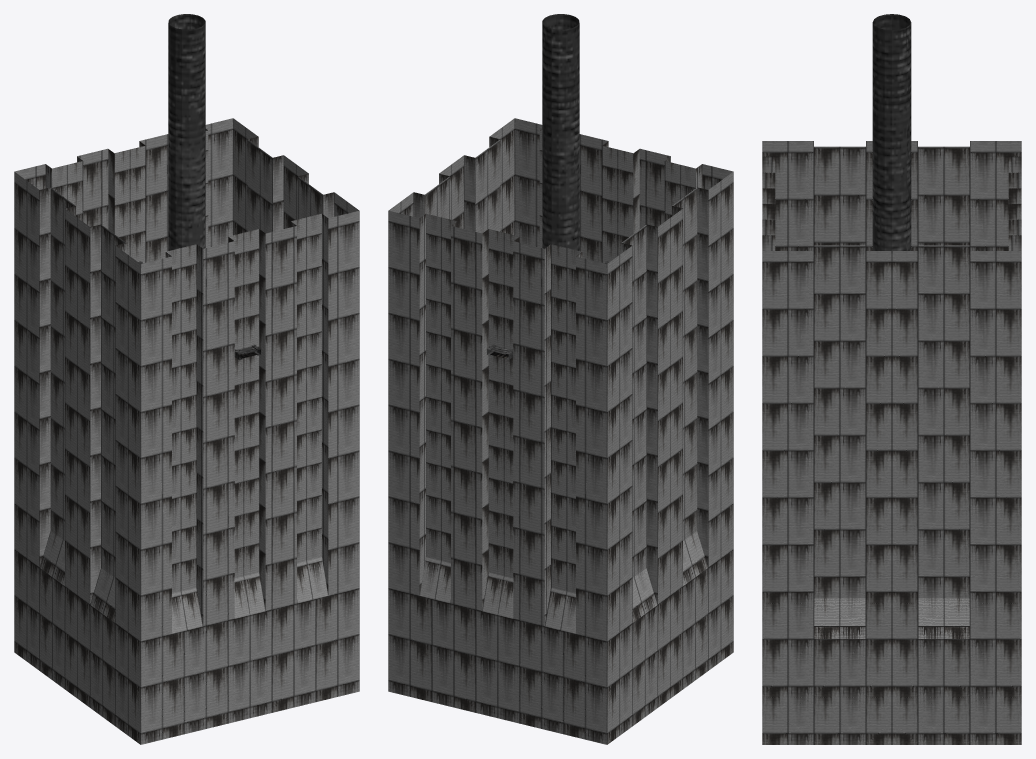
Rendered from BatGun_Place.fbx.
3 views of the same model, side by side, from view 1: azimuth 30°, elevation 25°; view 2: azimuth 150°, elevation 25°; view 3: azimuth 270°, elevation 25° (orthographic). The views are drawn at different scales.
Visible parts, largest first — view 1: Place, Tower; view 2: Place, Tower; view 3: Place, Tower.
Boxes of the visible parts, x1=… form: Place: x1=14, y1=118, x2=359, y2=744; Tower: x1=168, y1=14, x2=205, y2=250; Place: x1=388, y1=118, x2=733, y2=744; Tower: x1=542, y1=14, x2=579, y2=250; Place: x1=762, y1=141, x2=1021, y2=744; Tower: x1=872, y1=14, x2=911, y2=250.
Bounding box in the file's own units: 2000 × 5678 × 2000.
